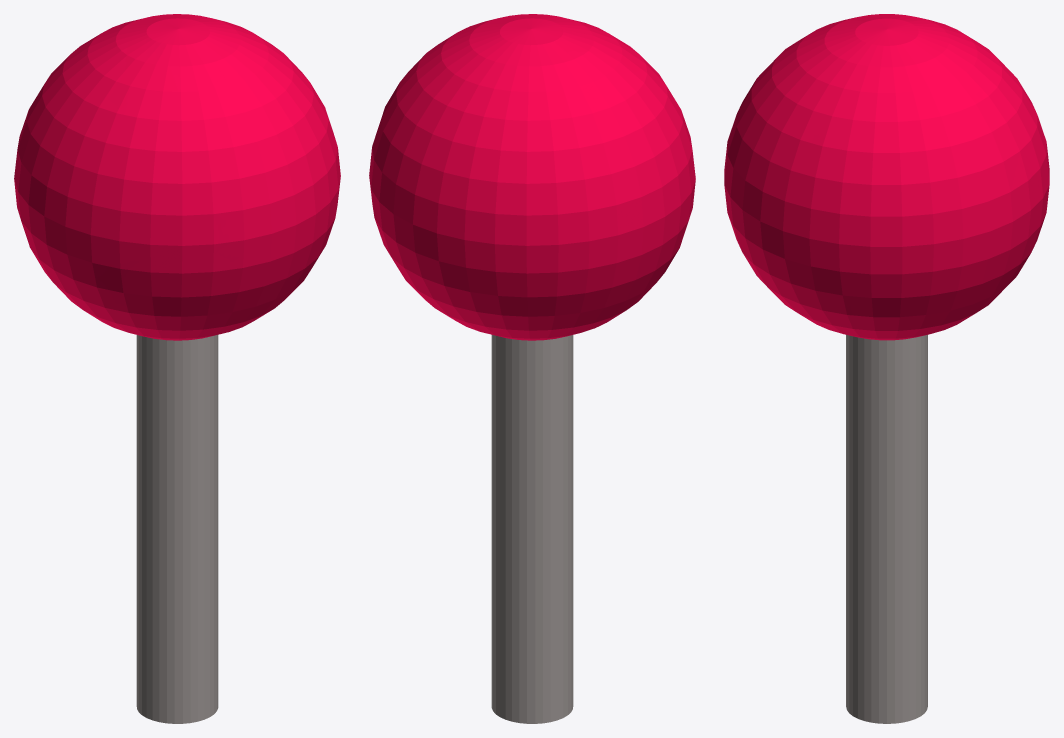
The model's file is pin2.obj.
3 views of the same model, side by side, from view 1: azimuth 30°, elevation 25°; view 2: azimuth 150°, elevation 25°; view 3: azimuth 270°, elevation 25° (orthographic).
Parts seen in each view (by area): view 1: Sphere, Cylinder; view 2: Sphere, Cylinder; view 3: Sphere, Cylinder.
Part boxes in pixels (box(x1,y1,x2,y2)): Sphere: box(14, 14, 340, 340); Cylinder: box(136, 335, 218, 723); Sphere: box(369, 14, 695, 340); Cylinder: box(491, 335, 573, 723); Sphere: box(724, 14, 1049, 340); Cylinder: box(846, 335, 927, 723).
Size of the model in its own units: 3.98 by 9.15 by 3.98.
2 materials, 2 textured.
